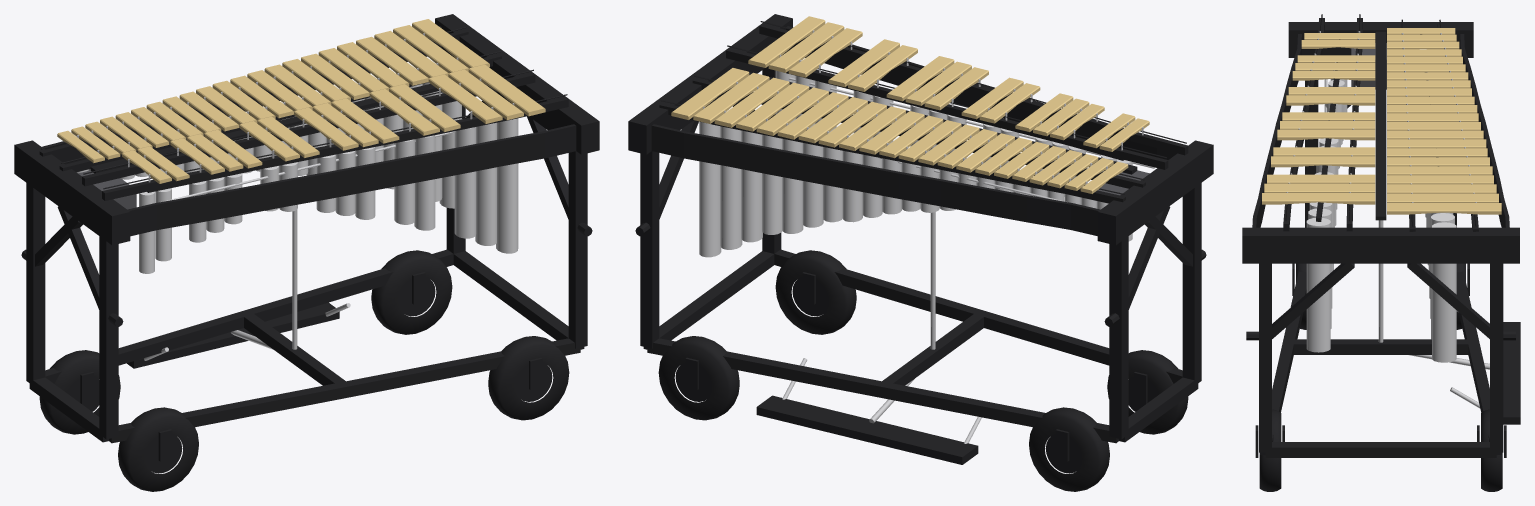
Rendered from vibraphone-3.0-gold.glb.
3 renders of one model, left to right at view 1: azimuth 30°, elevation 25°; view 2: azimuth 150°, elevation 25°; view 3: azimuth 270°, elevation 25°, orthographic. The views are drawn at different scales.
Parts seen in each view (by area): view 1: frame, bars-gold, resonators-silver, artwork, metal; view 2: frame, bars-gold, resonators-silver, metal; view 3: frame, bars-gold, resonators-silver, metal, panel.
Boxes of the visible parts, left/top/right/bottom form: frame: left=14, top=14, right=599, bottom=491; bars-gold: left=57, top=19, right=545, bottom=183; resonators-silver: left=76, top=82, right=518, bottom=273; artwork: left=129, top=126, right=576, bottom=236; metal: left=77, top=33, right=514, bottom=360; frame: left=628, top=14, right=1213, bottom=491; bars-gold: left=671, top=16, right=1149, bottom=193; resonators-silver: left=699, top=70, right=1132, bottom=257; metal: left=703, top=30, right=1154, bottom=443; frame: left=1242, top=14, right=1520, bottom=491; bars-gold: left=1262, top=28, right=1501, bottom=214; resonators-silver: left=1306, top=49, right=1456, bottom=362; metal: left=1286, top=31, right=1489, bottom=408; panel: left=1351, top=43, right=1386, bottom=89.
Bounding box in the file's own units: 1.53 × 0.9789 × 0.8406.
